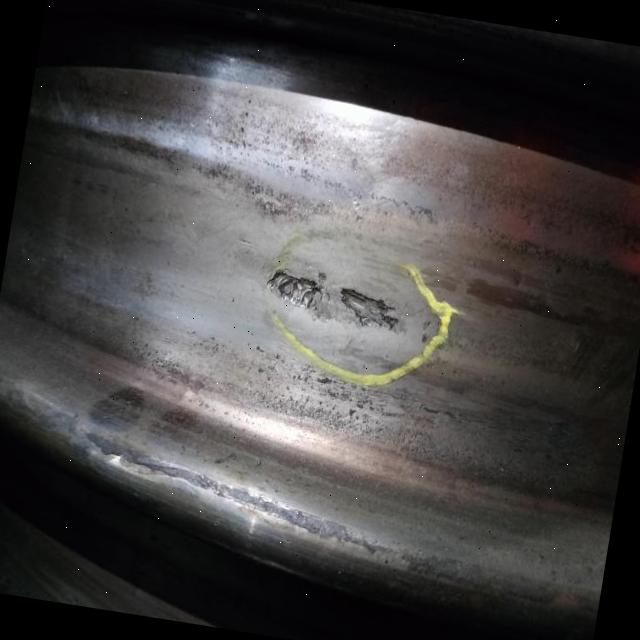Blue hole: (337, 283, 402, 343), (266, 267, 334, 323)
